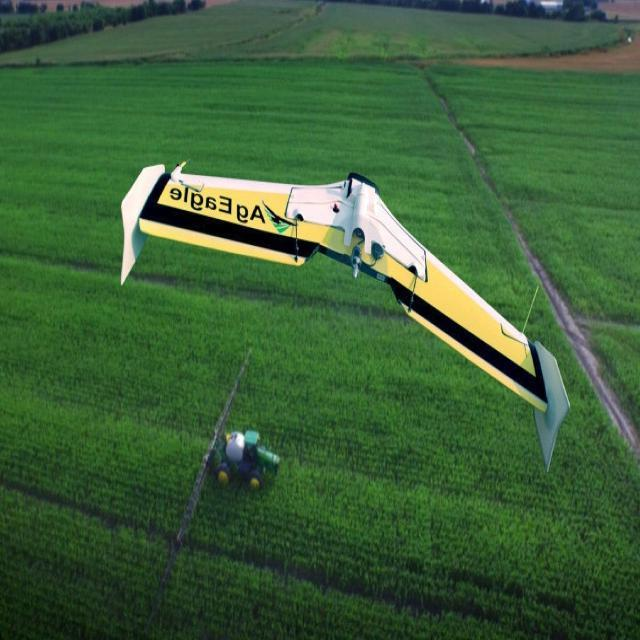iha: (109, 148, 585, 497)
